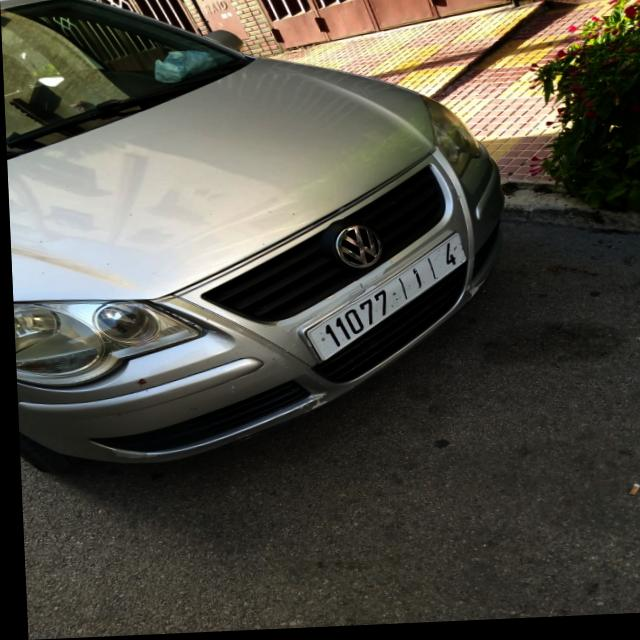License-Plate: (304, 238, 463, 363)
